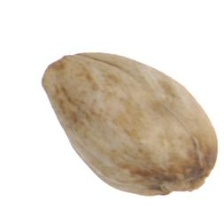L1: (41, 51, 81, 85), (167, 166, 210, 196)
L2: (40, 51, 218, 198)
